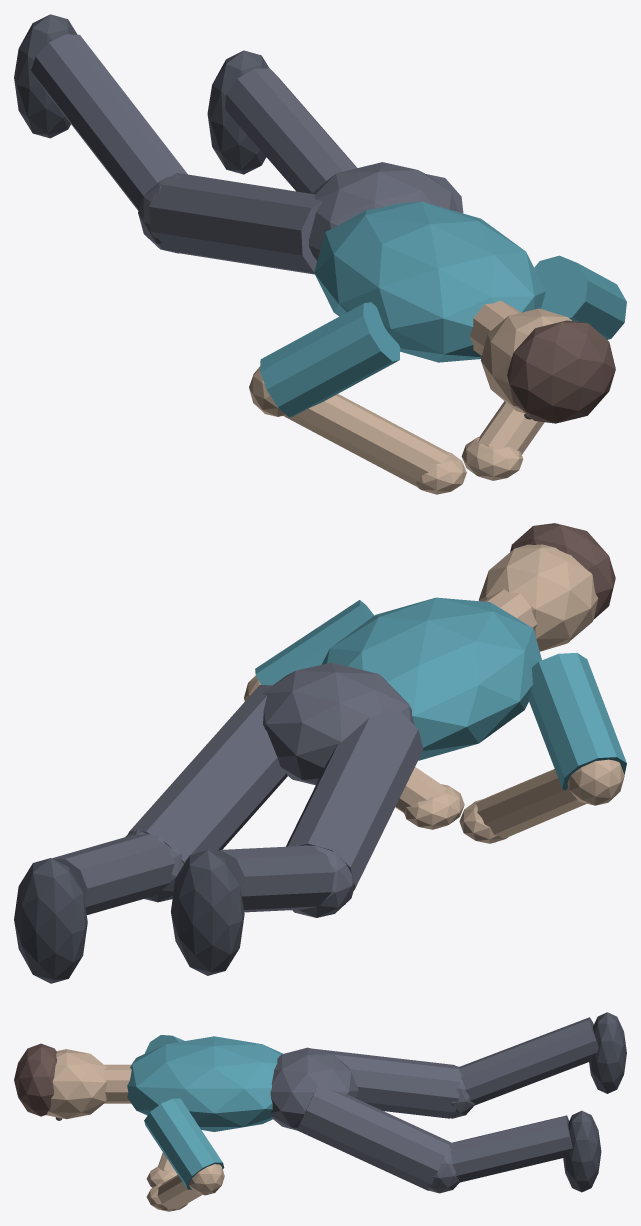
3 renders of one model, top to bottom at view 1: azimuth 30°, elevation 25°; view 2: azimuth 150°, elevation 25°; view 3: azimuth 270°, elevation 25°, orthographic. The views are drawn at different scales.
Parts seen in each view (by area): view 1: world; view 2: world; view 3: world.
Boxes of the visible parts, bbox=[...] form: world: bbox=[14, 14, 626, 494]; world: bbox=[14, 523, 626, 983]; world: bbox=[14, 1012, 626, 1211].
Bounding box in the file's own units: 0.93 × 0.5928 × 2.04.
